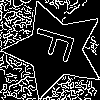F: (30, 24, 85, 67)
